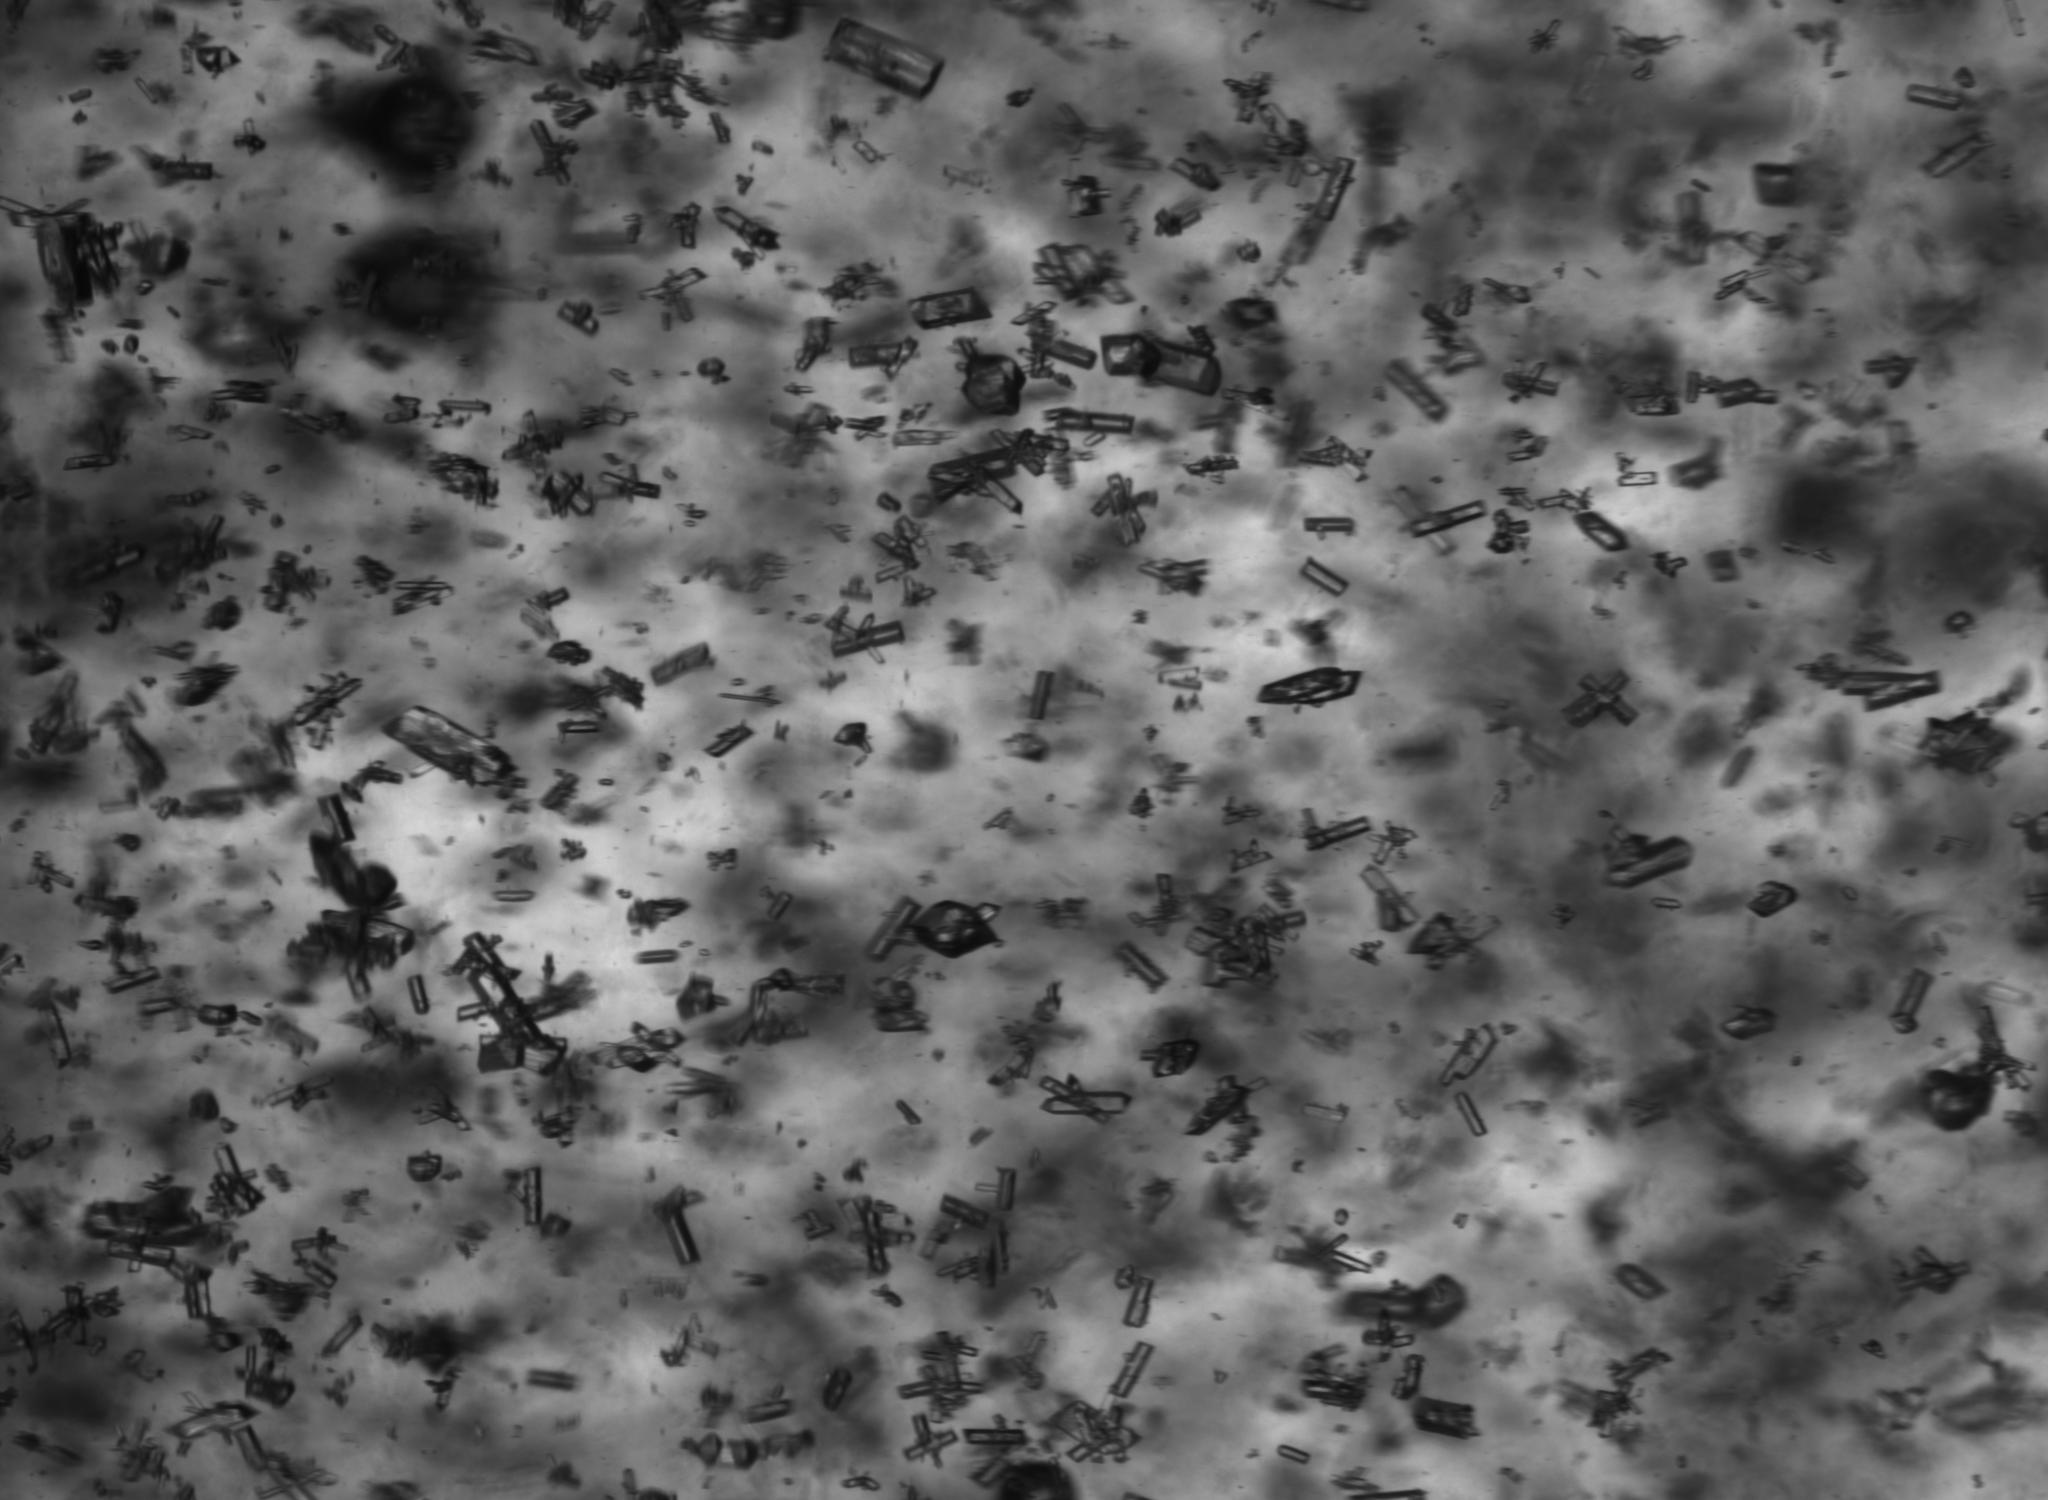bubble: (1000, 1462, 1076, 1500)
crystal: (448, 932, 568, 1078), (1913, 1002, 2031, 1131), (0, 196, 119, 310), (927, 428, 1070, 517), (375, 706, 520, 789), (817, 19, 946, 103), (81, 1185, 205, 1273), (1181, 903, 1305, 988), (321, 910, 413, 1002), (1100, 332, 1221, 396), (747, 967, 844, 1043), (1010, 302, 1097, 380), (1255, 100, 1329, 189), (1041, 1400, 1143, 1462), (1032, 243, 1131, 307), (838, 1196, 917, 1274), (1181, 1074, 1272, 1141), (1727, 229, 1825, 290), (954, 337, 1027, 417), (913, 897, 1003, 958), (932, 1218, 1010, 1288), (897, 1363, 984, 1425), (585, 1021, 687, 1074), (1603, 830, 1693, 889), (169, 1390, 261, 1446), (822, 604, 906, 665), (1037, 1074, 1134, 1125), (1091, 474, 1158, 547), (205, 1141, 267, 1218), (499, 409, 564, 482), (1833, 670, 1940, 711), (289, 670, 364, 729), (903, 285, 995, 331), (1356, 869, 1422, 934), (1255, 666, 1360, 706), (1563, 673, 1638, 729), (1383, 359, 1447, 423), (1124, 873, 1189, 935), (860, 896, 921, 962), (642, 267, 706, 329), (1894, 1245, 1972, 1295), (429, 452, 498, 507), (1434, 1026, 1496, 1086), (654, 1188, 701, 1265), (243, 1346, 297, 1411), (900, 1414, 962, 1470), (529, 119, 580, 186), (1685, 371, 1778, 407), (1921, 130, 1991, 178), (1294, 437, 1369, 482), (1407, 911, 1472, 962), (1407, 498, 1487, 539), (682, 1430, 763, 1470), (711, 207, 782, 251), (1304, 806, 1372, 853), (846, 336, 919, 379), (870, 977, 927, 1031), (820, 259, 887, 305), (1887, 969, 1935, 1032), (919, 1331, 978, 1382), (164, 1261, 213, 1322), (262, 1071, 334, 1112), (41, 1285, 87, 1349), (417, 1082, 474, 1133), (1590, 1382, 1639, 1441), (1312, 157, 1356, 221), (539, 468, 595, 519), (1110, 942, 1167, 991), (650, 643, 711, 687), (1604, 1349, 1676, 1385), (1301, 1370, 1369, 1408), (1412, 1397, 1472, 1440), (391, 581, 456, 620), (262, 549, 301, 616), (1138, 1037, 1199, 1078), (983, 1043, 1037, 1090), (1110, 1343, 1154, 1398), (1573, 509, 1630, 552), (1045, 407, 1135, 434), (3, 1309, 40, 1376), (673, 975, 719, 1026), (1501, 363, 1560, 402), (1140, 558, 1207, 593), (38, 1001, 72, 1071), (789, 317, 830, 372), (471, 30, 536, 65), (313, 792, 356, 843), (1164, 157, 1223, 194), (100, 966, 164, 999), (1712, 266, 1773, 301), (1617, 25, 1682, 57), (937, 1193, 991, 1231), (27, 849, 75, 892), (700, 724, 755, 760), (1612, 1263, 1665, 1301), (1232, 72, 1269, 126), (118, 1443, 167, 1483), (1487, 509, 1530, 554), (1062, 175, 1108, 216), (1302, 558, 1350, 598), (1720, 1005, 1775, 1040), (1905, 83, 1970, 111), (1747, 881, 1798, 918), (278, 399, 329, 436), (537, 770, 580, 813), (321, 1312, 363, 1357), (668, 199, 703, 250), (628, 900, 690, 929), (599, 471, 661, 499), (1121, 1276, 1154, 1328), (1154, 200, 1202, 237), (232, 1424, 267, 1473), (871, 533, 916, 571), (1369, 829, 1417, 864), (1228, 837, 1274, 872), (820, 1366, 852, 1414), (552, 99, 599, 130), (92, 589, 124, 636), (1027, 670, 1056, 722), (999, 733, 1051, 762), (1533, 488, 1592, 514), (1480, 277, 1531, 305), (557, 301, 598, 336), (1390, 1355, 1423, 1398), (1186, 453, 1239, 480), (1625, 391, 1681, 417), (1455, 1093, 1487, 1137), (194, 45, 240, 75), (830, 722, 871, 754), (522, 1168, 544, 1226), (11, 1133, 54, 1163), (231, 119, 264, 157), (741, 1400, 793, 1424), (972, 1459, 1013, 1489), (544, 641, 592, 666), (1231, 299, 1275, 326), (577, 406, 626, 429), (1154, 665, 1202, 689), (1032, 983, 1061, 1023), (302, 1258, 337, 1290), (1326, 1250, 1372, 1274), (1299, 1102, 1348, 1125), (1528, 19, 1561, 51), (64, 453, 114, 474), (405, 1155, 442, 1183), (541, 1112, 577, 1141), (962, 1430, 1027, 1446), (801, 1209, 835, 1239), (995, 1168, 1018, 1212), (436, 1370, 458, 1414), (405, 973, 428, 1016), (165, 161, 211, 181), (1498, 485, 1538, 509), (844, 417, 886, 439), (890, 428, 938, 447), (766, 889, 795, 921), (197, 1002, 235, 1026), (1348, 940, 1383, 966), (137, 997, 183, 1016), (903, 579, 937, 604), (579, 68, 617, 91), (1348, 1489, 1423, 1500), (378, 37, 407, 65), (1304, 517, 1355, 533), (1189, 324, 1215, 356), (1506, 442, 1544, 463), (383, 406, 421, 426), (894, 517, 921, 546), (894, 1099, 922, 1126), (1655, 552, 1685, 577), (1452, 283, 1472, 320), (873, 563, 910, 584), (636, 948, 679, 966), (439, 399, 490, 414), (134, 78, 159, 107), (1275, 1444, 1310, 1465), (1943, 609, 1975, 631), (709, 111, 730, 145), (698, 356, 727, 380), (170, 425, 213, 441), (1232, 240, 1263, 262), (1003, 86, 1034, 108), (541, 587, 571, 609), (210, 1331, 240, 1354), (1617, 471, 1658, 487), (154, 797, 178, 822), (983, 808, 1014, 827), (840, 1476, 879, 1490), (561, 838, 587, 861), (875, 492, 902, 512), (491, 889, 534, 902), (1115, 1265, 1134, 1292), (1954, 67, 1976, 89), (852, 142, 875, 164), (557, 722, 599, 733), (204, 390, 240, 402), (0, 951, 19, 975), (1650, 897, 1682, 910), (1388, 1333, 1414, 1349), (1779, 542, 1806, 557), (1865, 1339, 1884, 1358), (134, 280, 154, 297), (122, 334, 138, 355), (68, 89, 91, 103), (92, 1292, 114, 1304), (784, 385, 819, 393), (1332, 1209, 1348, 1225), (1843, 888, 1857, 902), (1212, 1371, 1226, 1382), (598, 778, 612, 786)
